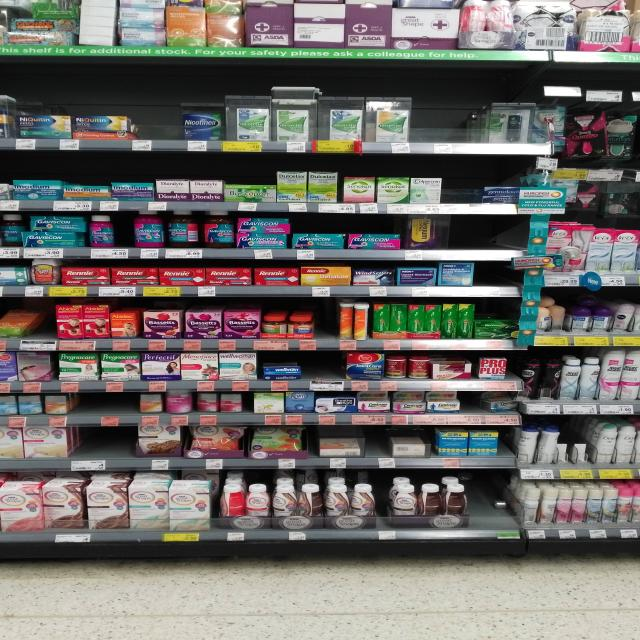void: (416, 94, 485, 142), (451, 214, 522, 248), (471, 480, 521, 528), (131, 104, 180, 140), (72, 427, 128, 458), (444, 172, 478, 202), (74, 396, 137, 412), (313, 300, 339, 338), (306, 354, 341, 378)
